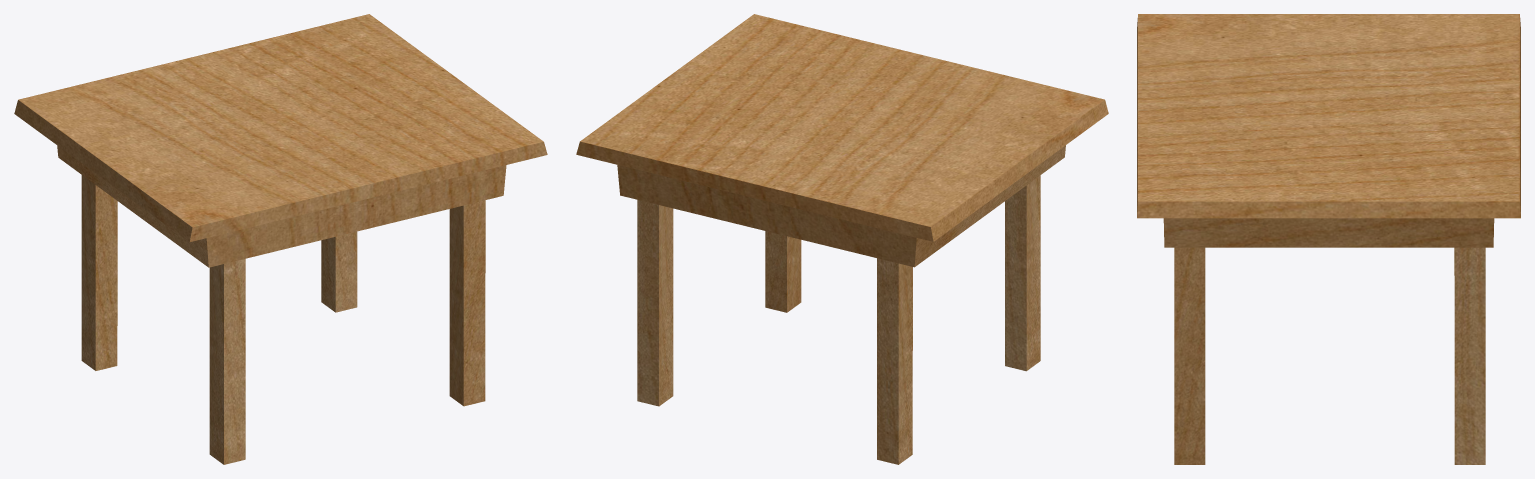
File: TableSmal.fbx
3 views of the same model, side by side, from view 1: azimuth 30°, elevation 25°; view 2: azimuth 150°, elevation 25°; view 3: azimuth 270°, elevation 25° (orthographic). The views are drawn at different scales.
Visible parts, largest first — view 1: TableSmal; view 2: TableSmal; view 3: TableSmal.
Part boxes in pixels (left/top/right/bottom): TableSmal: left=14, top=14, right=547, bottom=464; TableSmal: left=576, top=14, right=1108, bottom=464; TableSmal: left=1137, top=14, right=1520, bottom=464.
Bounding box in the file's own units: 1.53 × 1.07 × 1.3.
